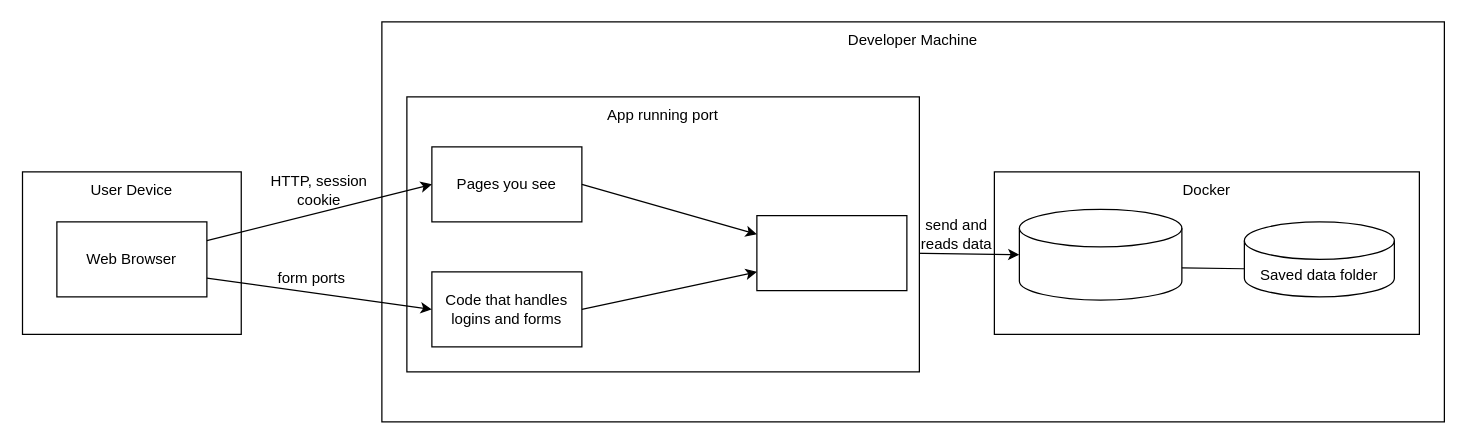
This 1466x444 diagram has some shape labels left out. Here are the shapes that lost their labels. From the top down, the box of each, then its label:
(756, 214, 907, 291): Booking rules and database talker
(1018, 208, 1182, 300): PostgreSQL DB
